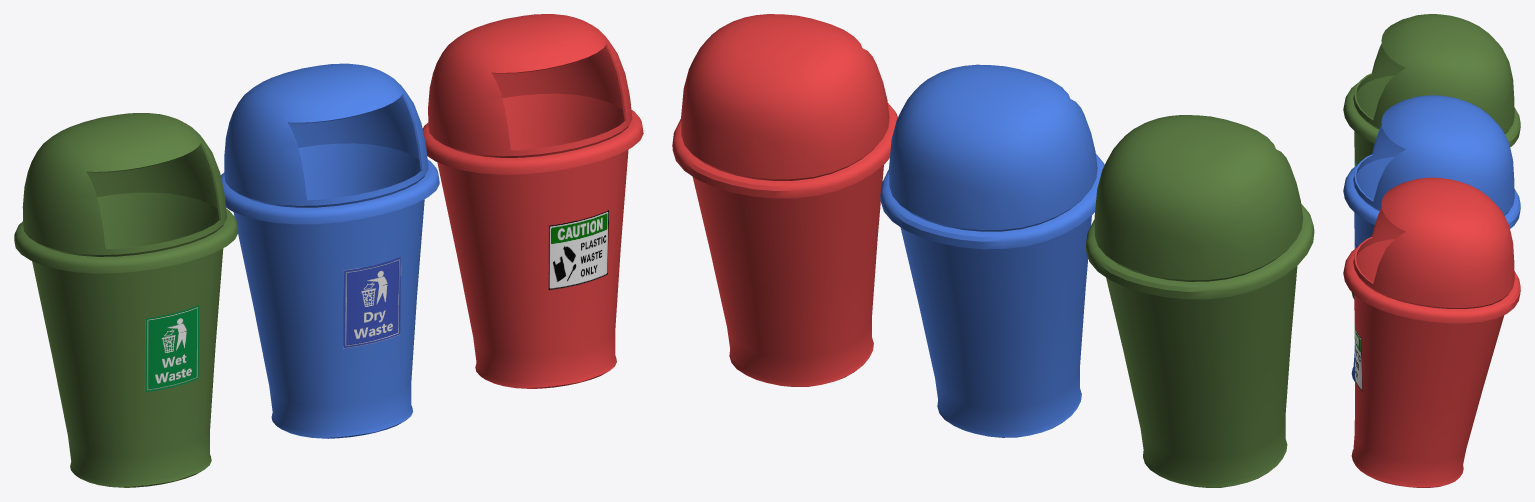
The model's file is Dust.glb.
The picture shows the model from 3 angles, left to right: view 1: azimuth 30°, elevation 25°; view 2: azimuth 150°, elevation 25°; view 3: azimuth 270°, elevation 25°; orthographic projection. The views are drawn at different scales.
Parts seen in each view (by area): view 1: Cube.003, Cube.002, Cube.001; view 2: Cube.003, Cube.002, Cube.001; view 3: Cube.002, Cube.001, Cube.003.
Part boxes in pixels (box(x1,y1,x2,y2)): Cube.003: box(14, 113, 238, 487); Cube.002: box(422, 14, 643, 388); Cube.001: box(220, 63, 439, 438); Cube.003: box(1086, 115, 1314, 487); Cube.002: box(672, 14, 897, 386); Cube.001: box(880, 64, 1104, 437); Cube.002: box(1343, 177, 1520, 487); Cube.001: box(1343, 95, 1520, 381); Cube.003: box(1343, 14, 1520, 299).
Size of what is drawn, in the model's own units: 3.38 by 1.81 by 1.05.
3 materials, 3 textured.
